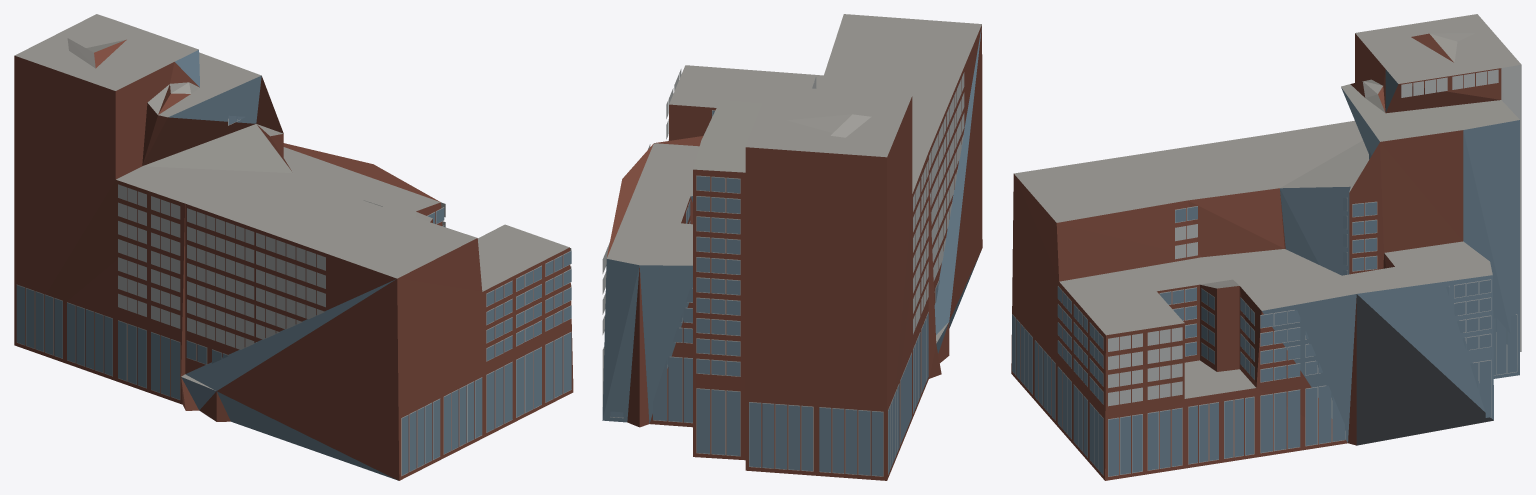
Rendered from hva-wibautstraat-3.lod2.glb.
The picture shows the model from 3 angles, left to right: view 1: azimuth 30°, elevation 25°; view 2: azimuth 150°, elevation 25°; view 3: azimuth 270°, elevation 25°; orthographic projection. The views are drawn at different scales.
Visible parts, largest first — view 1: lod2; view 2: lod2; view 3: lod2.
Boxes of the visible parts, box(x1,y1,x2,y2) form: lod2: box(14, 14, 573, 480); lod2: box(602, 14, 982, 480); lod2: box(1011, 14, 1521, 480).
Size of the model in its own units: 74.64 by 57.08 by 89.61.
